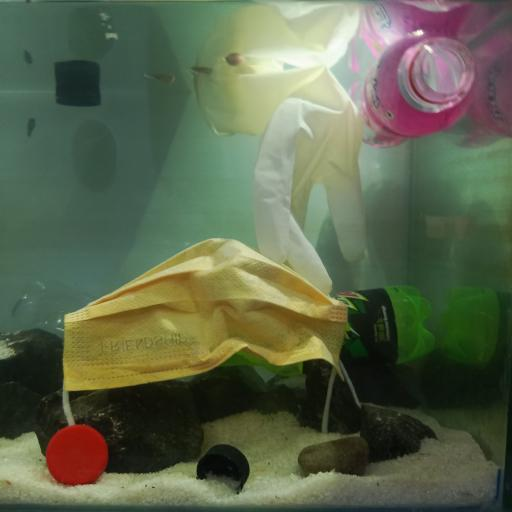bottle_cap: (46, 425, 108, 485), (196, 443, 250, 496), (54, 80, 104, 107)
glove: (194, 59, 368, 292)
mask: (59, 236, 352, 394)
plastic_bottle: (205, 285, 436, 373), (351, 30, 477, 151), (13, 277, 110, 340)
